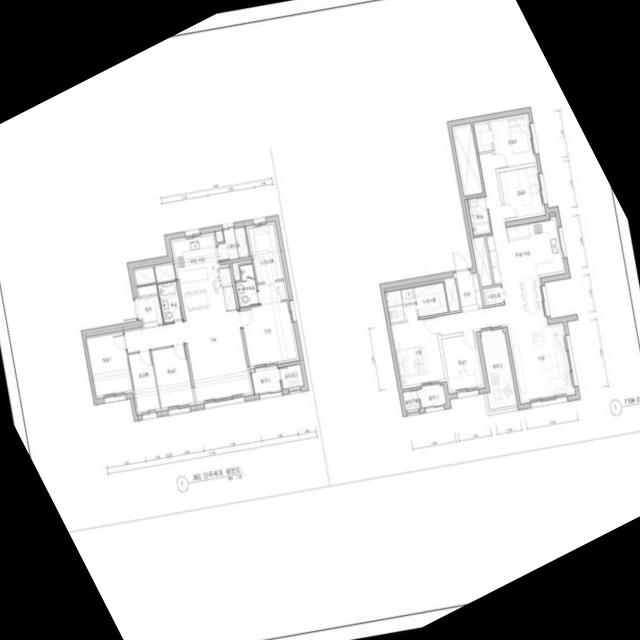background: (0, 0, 640, 640)
space_balconi: (251, 368, 281, 394), (418, 384, 446, 408)
space_bedroom: (239, 280, 299, 369), (390, 317, 445, 389), (473, 113, 536, 169), (85, 331, 133, 399), (151, 345, 195, 410), (441, 333, 485, 394), (498, 166, 545, 222), (128, 351, 160, 415)
space_dressroom: (245, 221, 284, 283), (401, 282, 448, 320)
space_front: (453, 270, 483, 312), (134, 295, 162, 329)
space_kitchen: (507, 216, 565, 323), (170, 232, 237, 320)
space_living_room: (437, 152, 575, 404), (124, 311, 253, 404)
space_multipurpose_space: (217, 226, 249, 261), (481, 286, 503, 306)
space_other: (451, 123, 482, 196), (471, 236, 492, 287), (279, 364, 303, 389), (443, 277, 460, 312), (133, 266, 155, 286), (154, 262, 175, 282), (231, 260, 251, 281), (136, 284, 157, 296), (215, 230, 223, 242), (549, 212, 555, 215)
space_outdoor_room: (402, 390, 420, 411)
space_toilet: (157, 281, 182, 323), (235, 264, 259, 307), (467, 196, 491, 236), (384, 290, 405, 323)
